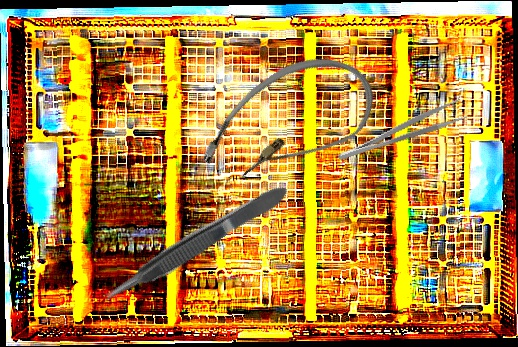Cannula: (186, 31, 390, 217)
Dressing Forceps: (332, 97, 469, 164)
Tissue Forceps: (93, 179, 295, 311)
